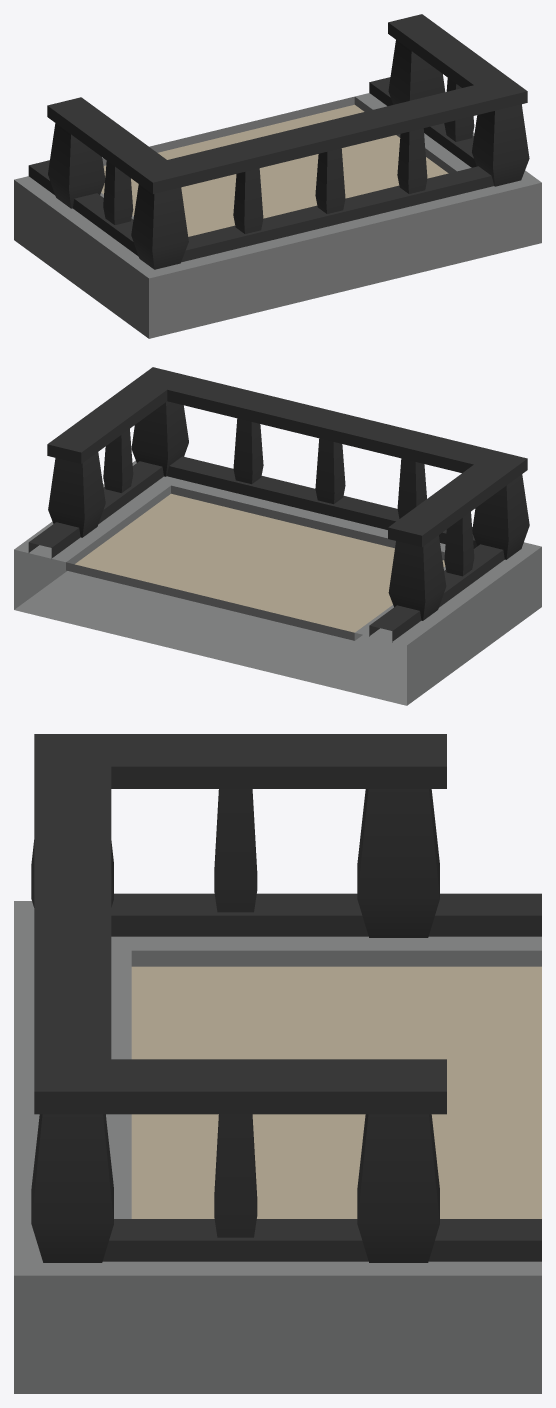
Rendered from Veranda_B_01.FBX.
The picture shows the model from 3 angles, top to bottom: view 1: azimuth 30°, elevation 25°; view 2: azimuth 150°, elevation 25°; view 3: azimuth 270°, elevation 25°; orthographic projection. The views are drawn at different scales.
Parts seen in each view (by area): view 1: Veranda_B_01; view 2: Veranda_B_01; view 3: Veranda_B_01.
Boxes of the visible parts, x1,y1,x2,y2 form: Veranda_B_01: (14, 14, 541, 338); Veranda_B_01: (14, 367, 541, 705); Veranda_B_01: (14, 734, 541, 1393).
Size of the model in its own units: 1.51 by 0.5503 by 0.897.
